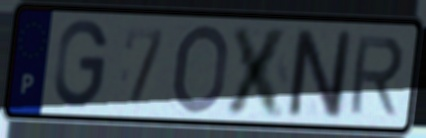7: (121, 26, 165, 108)
G: (52, 17, 111, 111)
N: (285, 25, 353, 121)
O: (170, 21, 232, 117)
R: (345, 34, 407, 118)
X: (221, 23, 295, 121)
